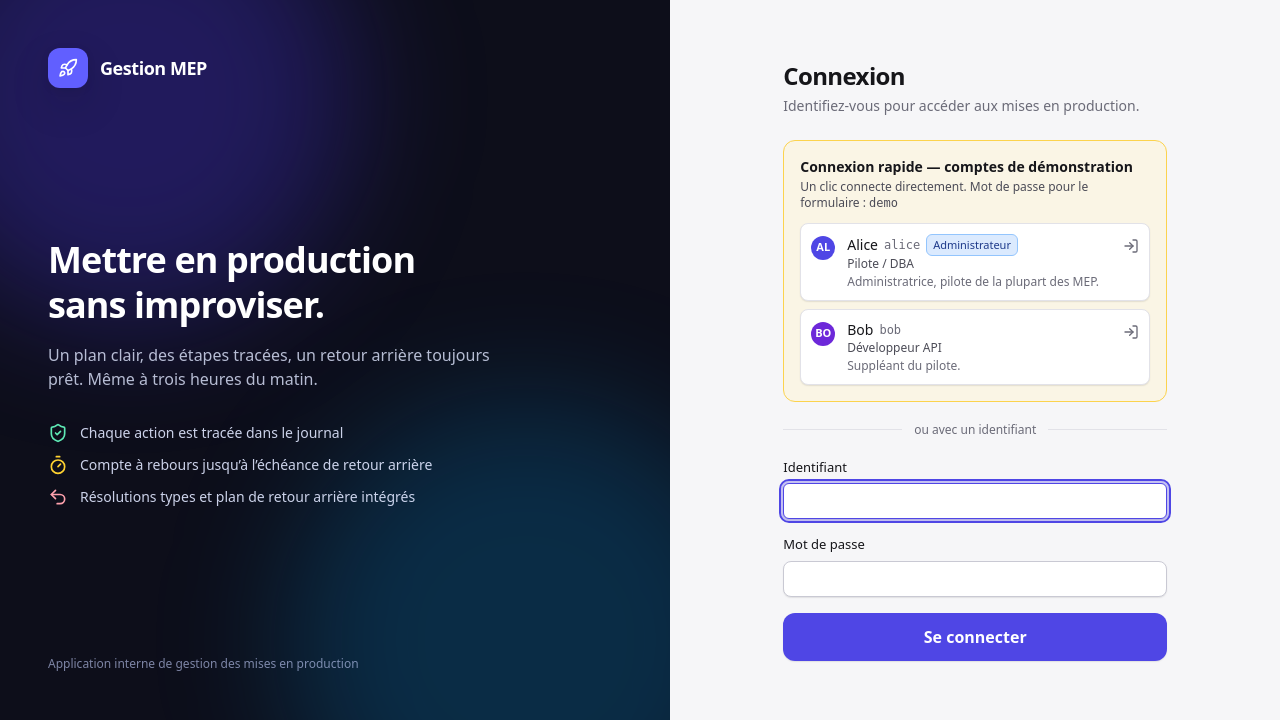
Test case: Page de connexion : mode démonstration › affiche le refus du serveur
Click the button with aria-label "Se connecter en tant que Alice (alice)" at (863, 244), box [800, 222, 1150, 300]
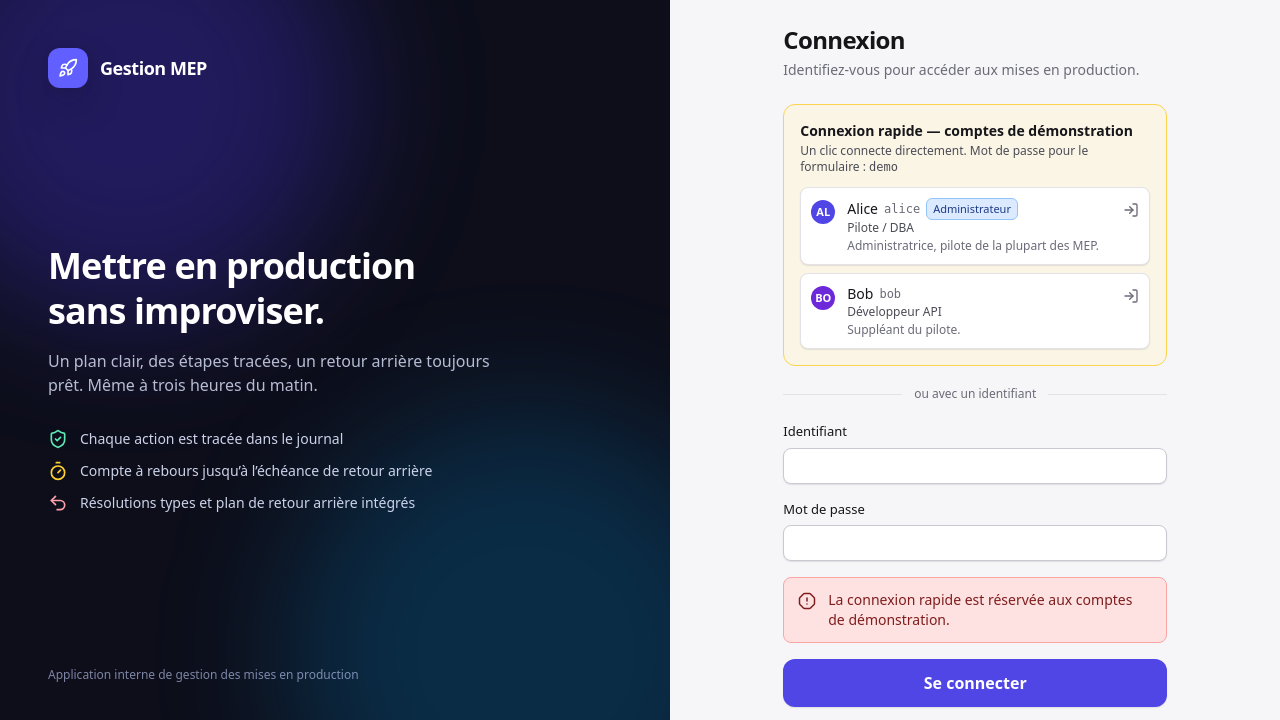
Expected: the message shows "réservée aux comptes de démonstration", [828, 590, 1132, 629]
